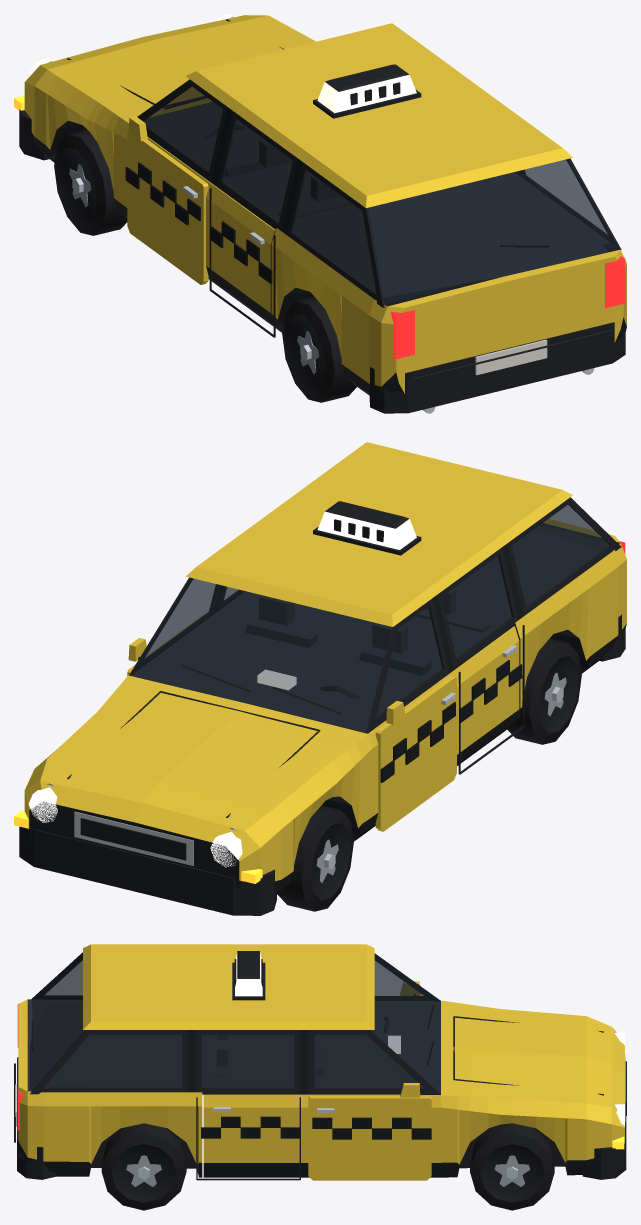
The model's file is taxi.glb.
The picture shows the model from 3 angles, top to bottom: view 1: azimuth 30°, elevation 25°; view 2: azimuth 150°, elevation 25°; view 3: azimuth 270°, elevation 25°; orthographic projection. The views are drawn at different scales.
Parts seen in each view (by area): view 1: Body, DoorL, Wheel_FL, Wheel_RL, TaxiSign; view 2: Body, DoorL, Wheel_FL, Wheel_RL, TaxiSign, DoorR; view 3: Body, DoorR, Wheel_RR, Wheel_FR, TaxiSign, DoorL.
Part boxes in pixels (bbox=[...]): Body: bbox=[14, 14, 626, 413]; DoorL: bbox=[125, 79, 227, 284]; Wheel_FL: bbox=[54, 129, 127, 235]; Wheel_RL: bbox=[282, 296, 356, 402]; TaxiSign: bbox=[313, 64, 421, 118]; Body: bbox=[14, 442, 626, 915]; DoorL: bbox=[366, 598, 456, 831]; Wheel_FL: bbox=[278, 805, 353, 911]; Wheel_RL: bbox=[507, 638, 581, 744]; TaxiSign: bbox=[313, 501, 421, 555]; DoorR: bbox=[127, 577, 220, 675]; Body: bbox=[14, 944, 626, 1180]; DoorR: bbox=[308, 1030, 440, 1180]; Wheel_RR: bbox=[101, 1123, 186, 1210]; Wheel_FR: bbox=[470, 1123, 554, 1210]; TaxiSign: bbox=[232, 951, 265, 1000]; DoorL: bbox=[374, 953, 440, 1001].
Bounding box in the file's own units: 1.86 × 1.65 × 4.63.
